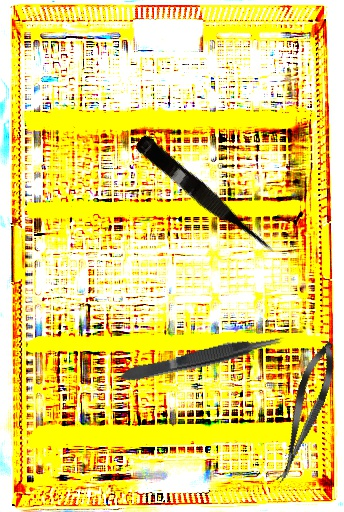Micro Scissor: (131, 133, 280, 263), (267, 337, 344, 488)
Tissue Forceps: (117, 330, 288, 385)
